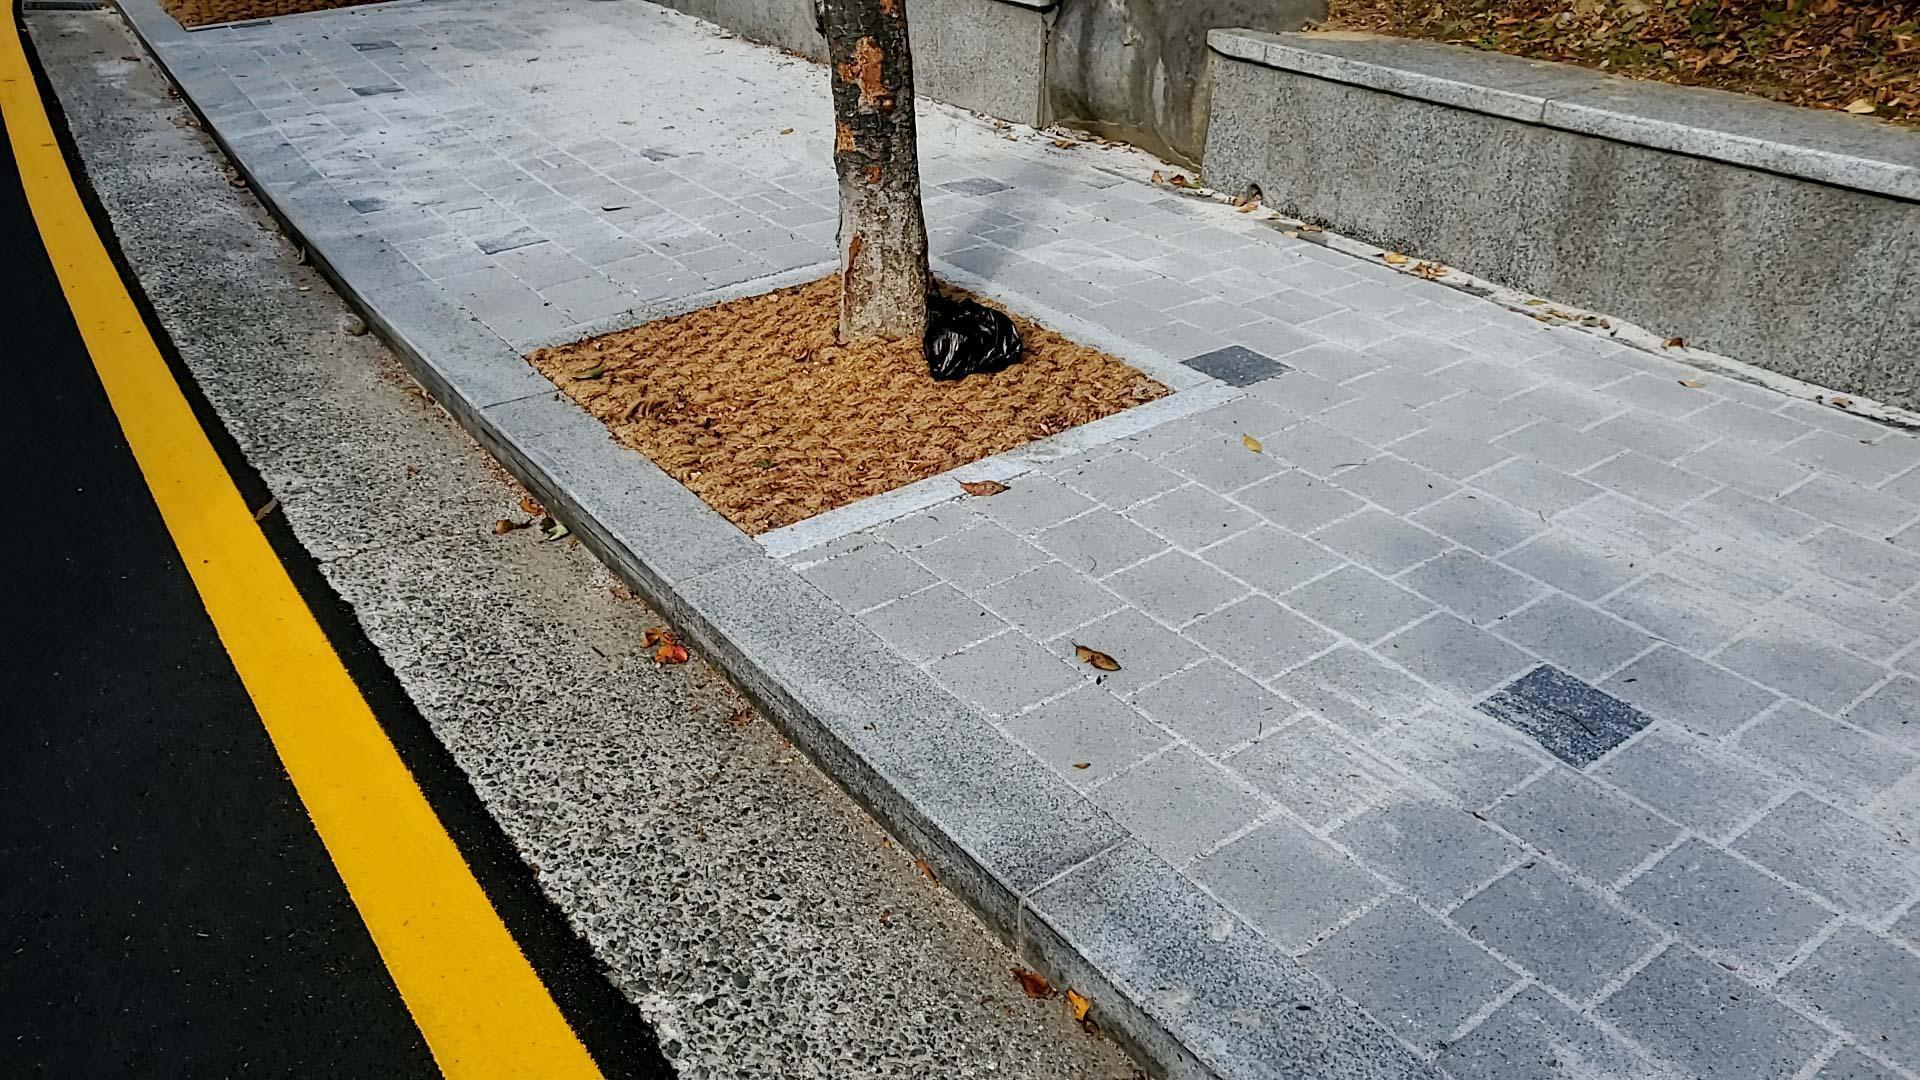black_bag: (909, 269, 1038, 392)
